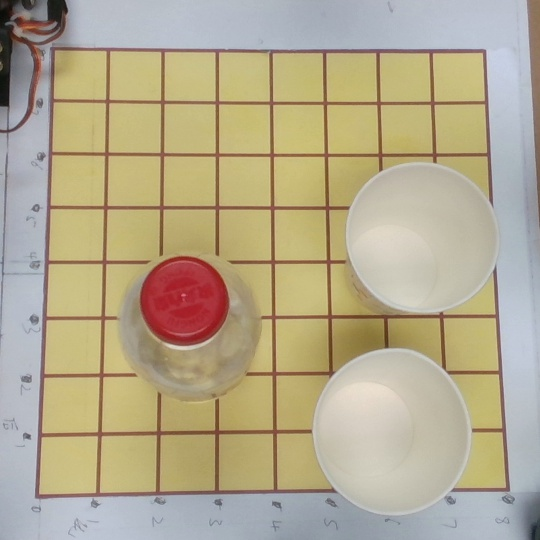bottle: (111, 250, 263, 406)
cup: (292, 346, 472, 517), (325, 160, 499, 315)
